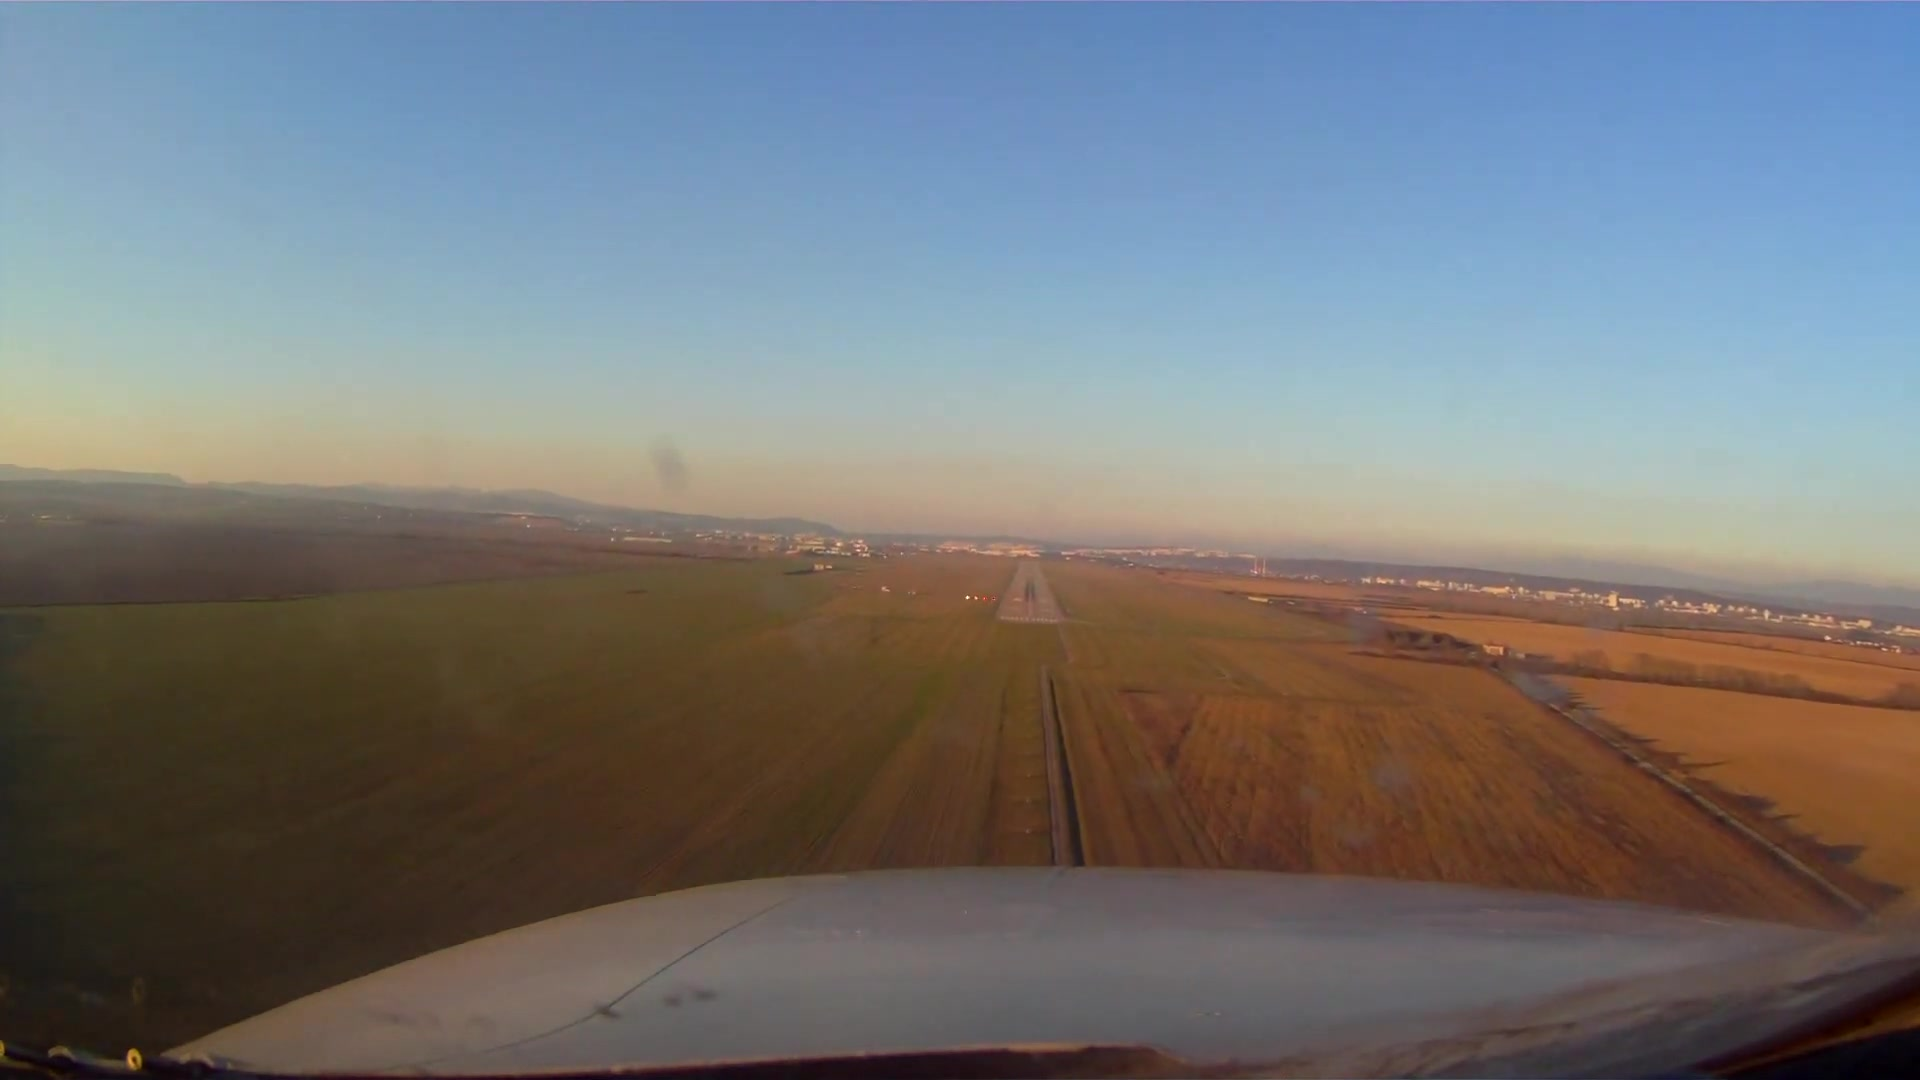entrance: (1001, 615, 1060, 622)
runway: (996, 564, 1069, 626)
